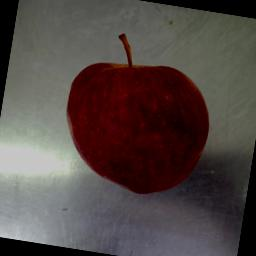Apple Ripe: (54, 24, 226, 206)
